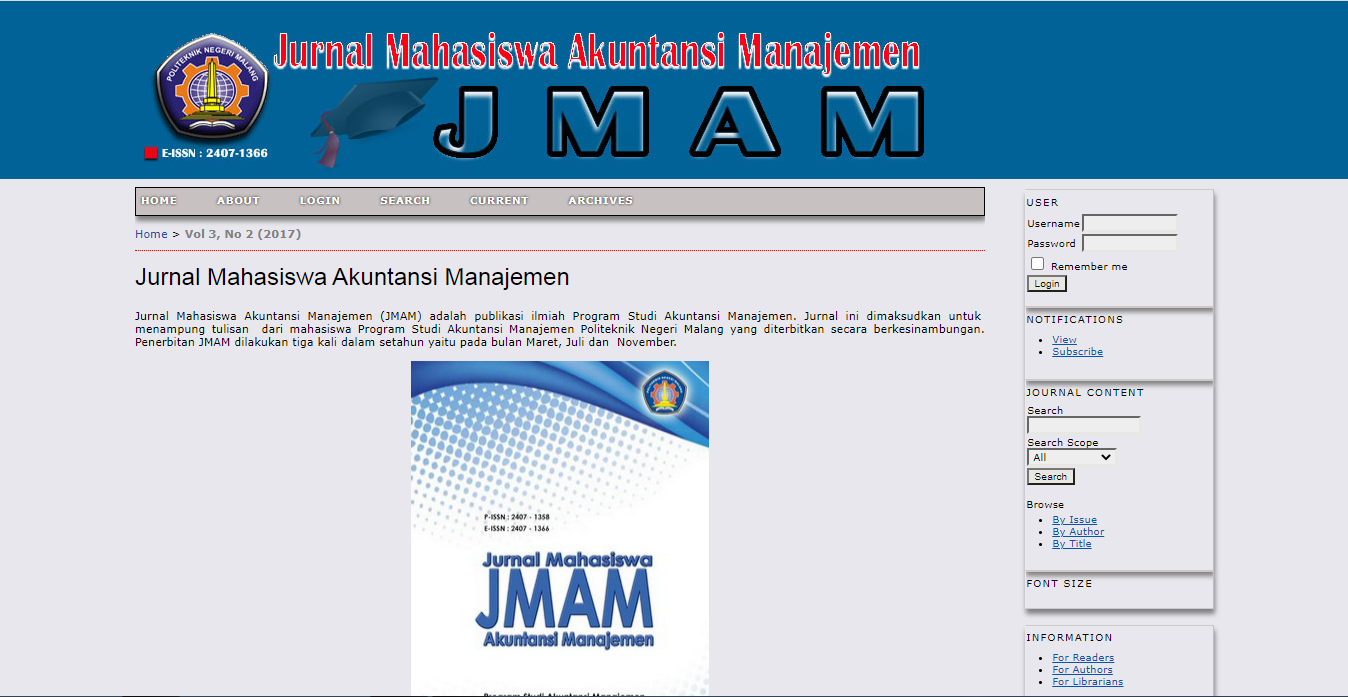Button: (1026, 269, 1069, 293), (1026, 468, 1077, 487)
Image: (109, 14, 934, 178), (408, 356, 710, 697)
Menu Bar: (128, 186, 646, 218)
Nav Bar: (1024, 629, 1130, 692), (1027, 310, 1124, 365), (1027, 497, 1109, 555), (127, 225, 309, 243)
Side Bar: (1017, 187, 1216, 697)
Text Field: (1027, 413, 1144, 437), (1080, 210, 1179, 234), (1080, 235, 1180, 258)
